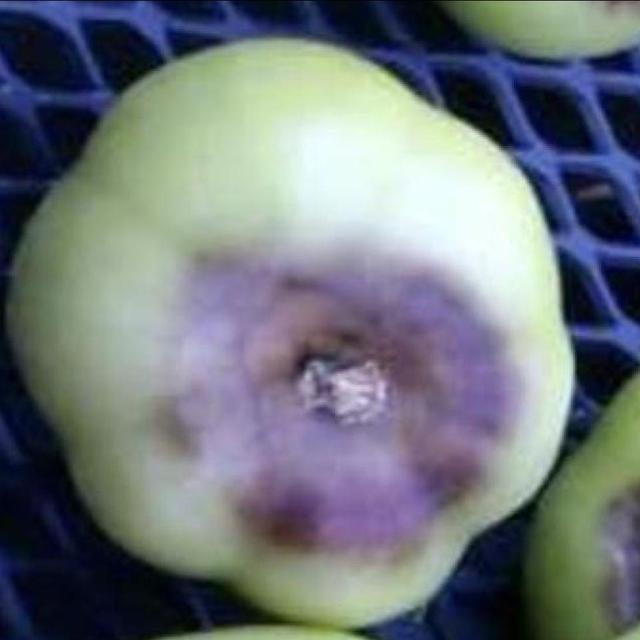Blossom End Rot Fruit: (75, 182, 389, 336)
